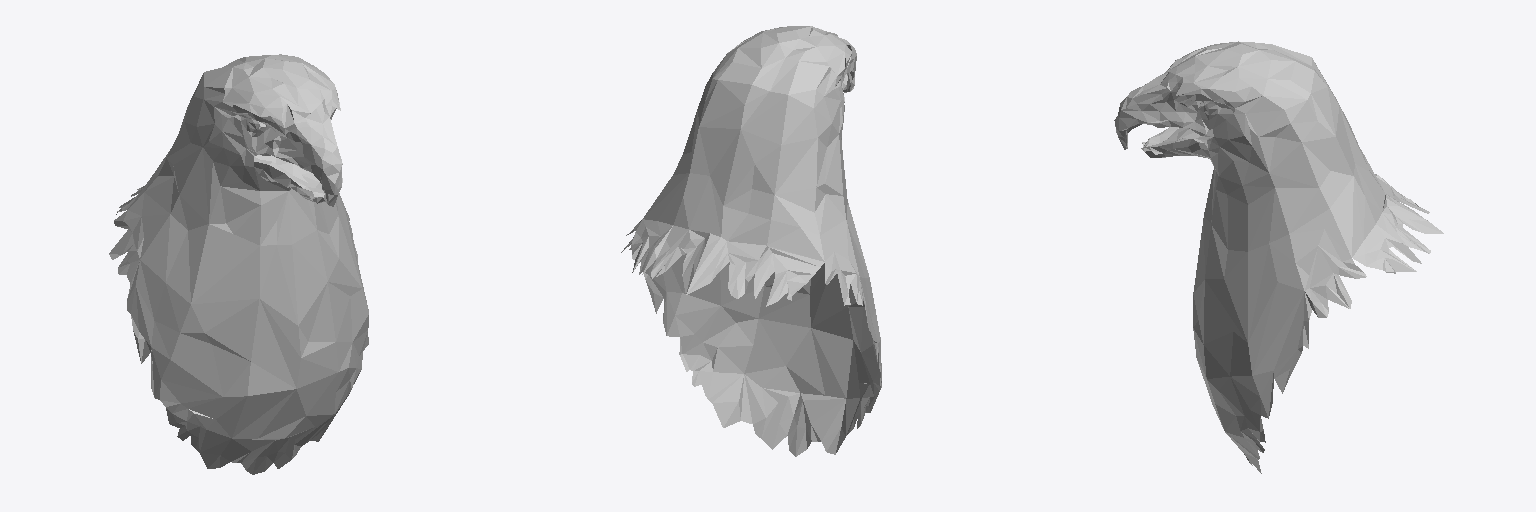
File: Cabeza_aguila.obj
The picture shows the model from 3 angles: view 1: azimuth 30°, elevation 25°; view 2: azimuth 150°, elevation 25°; view 3: azimuth 270°, elevation 25°; orthographic projection.
Parts seen in each view (by area): view 1: Cabeza; view 2: Cabeza; view 3: Cabeza.
Boxes of the visible parts, box(x1,y1,x2,y2) form: Cabeza: box(109, 54, 368, 474); Cabeza: box(621, 26, 881, 456); Cabeza: box(1114, 41, 1443, 473).
Size of the model in its own units: 4.31 by 7.31 by 5.32.